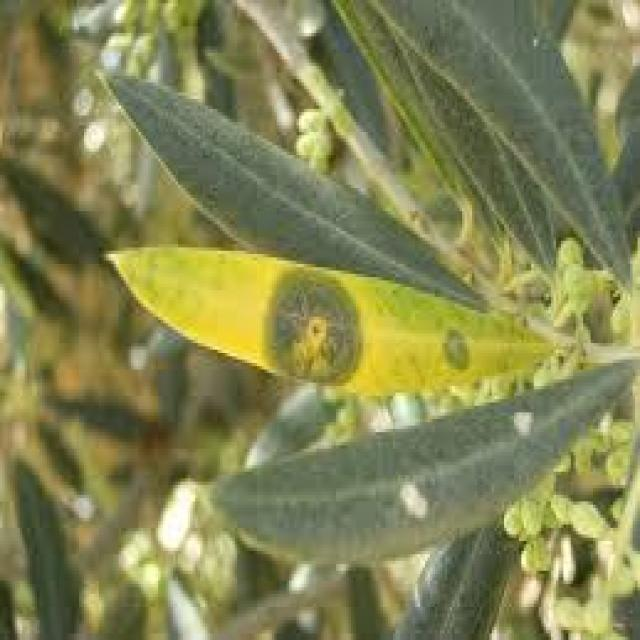OlivePeacockSpot: (109, 248, 548, 392)
